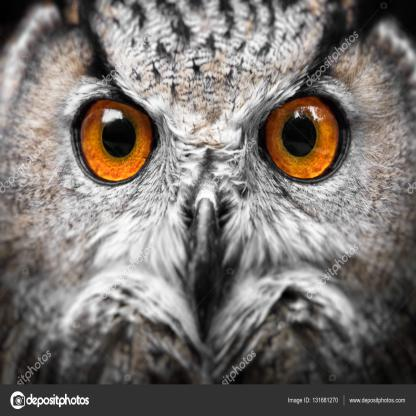owl: (19, 0, 416, 416)
